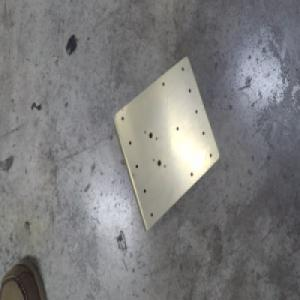MetalSheet: (109, 53, 220, 235)
